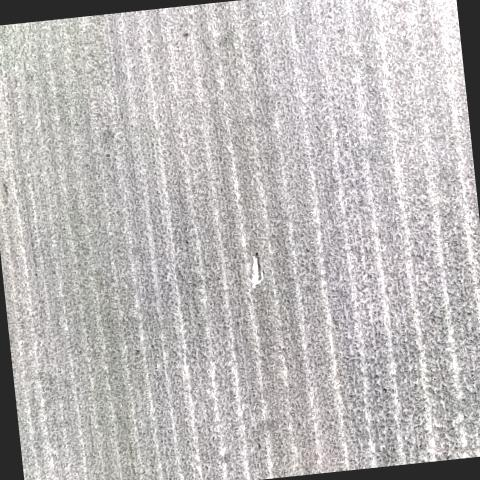person: (244, 250, 265, 286)
